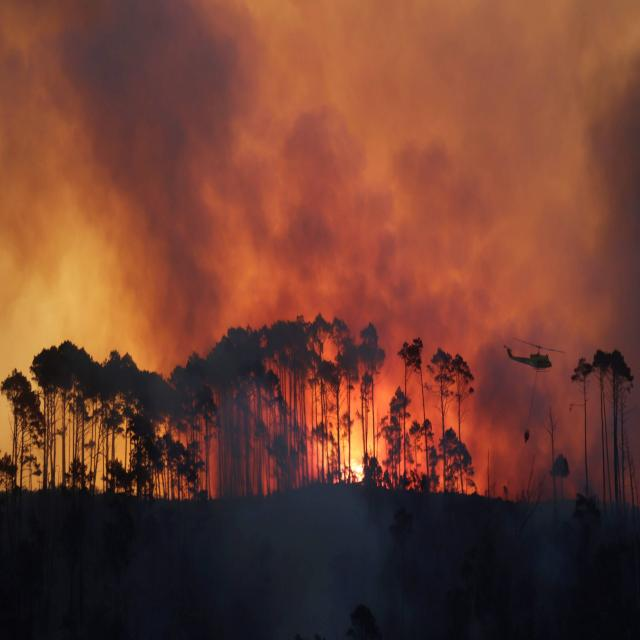Fire: (332, 436, 370, 496)
Smoke: (44, 52, 614, 516)
